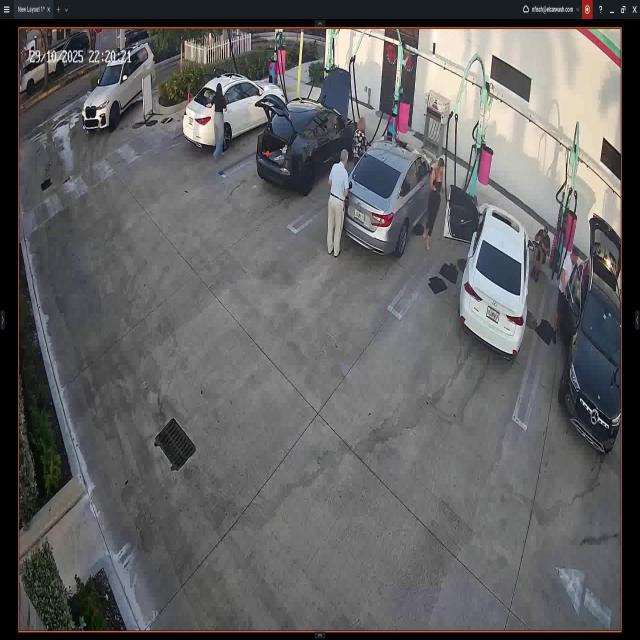Car: (447, 190, 532, 362), (561, 220, 621, 452), (256, 71, 356, 191), (341, 147, 439, 254), (184, 74, 286, 148), (78, 45, 158, 129)
